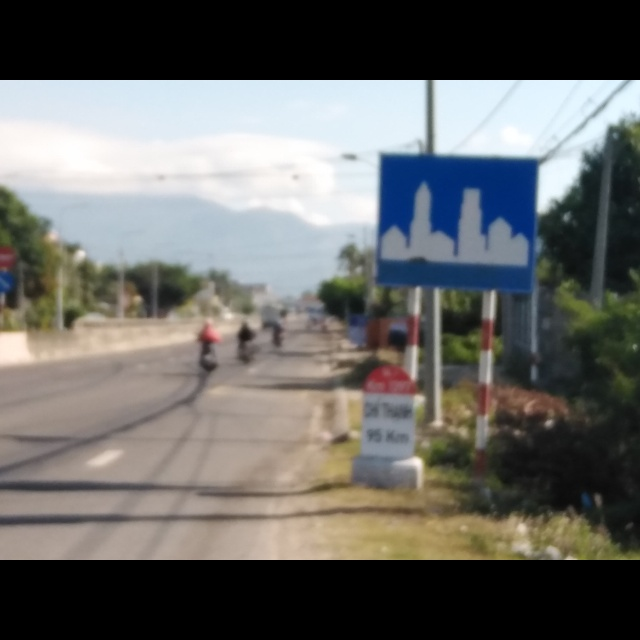Khu đông dân cư: (371, 149, 538, 297)
